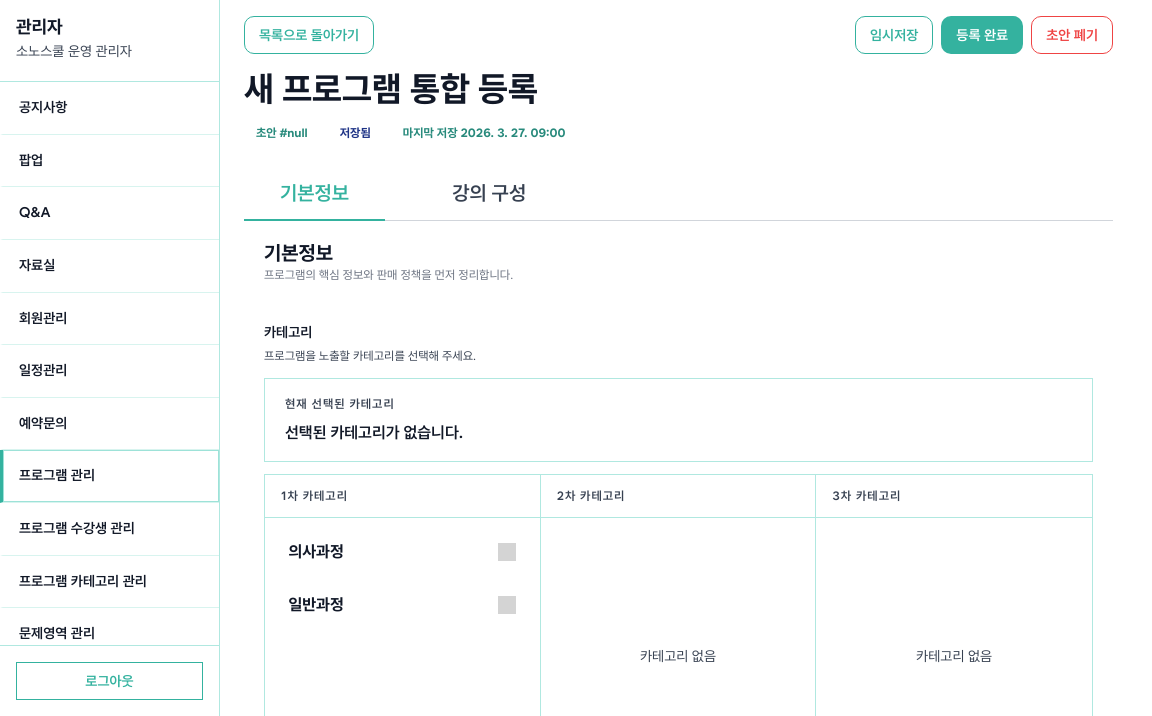
Test case: AdminConsolePage › opens duplicate programs in the integrated draft workspace with curriculum copied
Expected: the heading "새 프로그램 통합 등록" is shown, [244,68,538,109]
Click the button "강의 구성" at (489, 193), box [416,166,562,220]
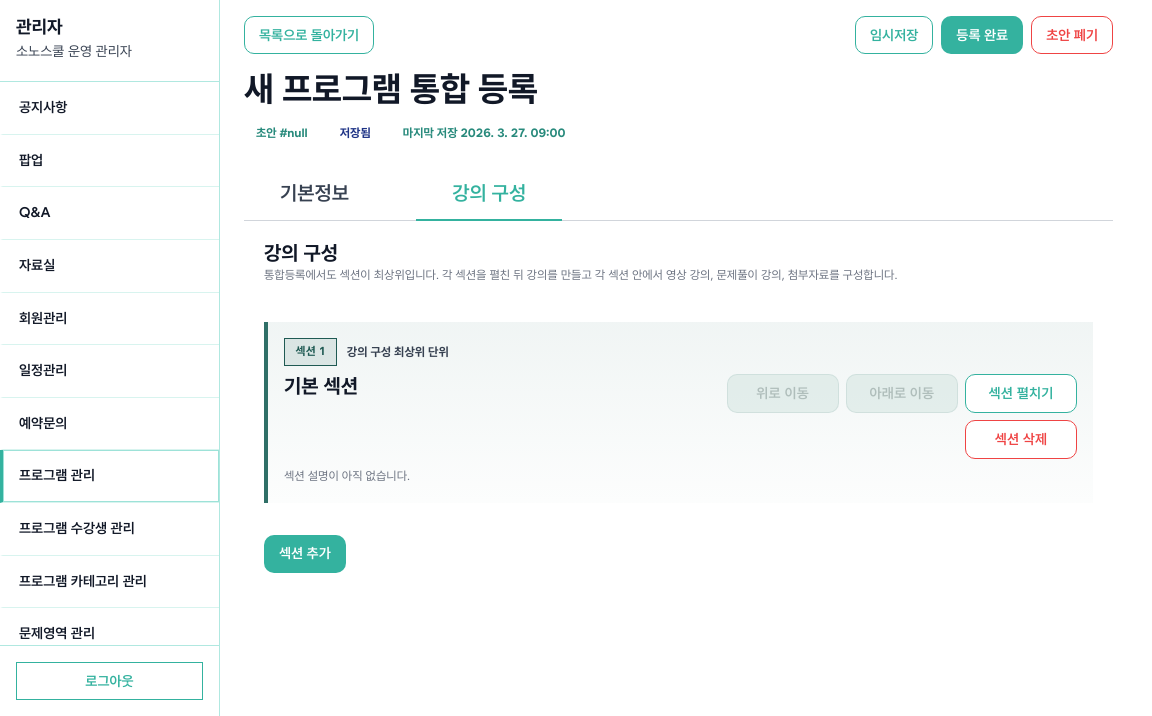
Expected: the heading "기본 섹션" is shown, [284,374,358,398]
Click the button "섹션 펼치기" at (1021, 393), box [965,374,1077,413]
(page scrolled)
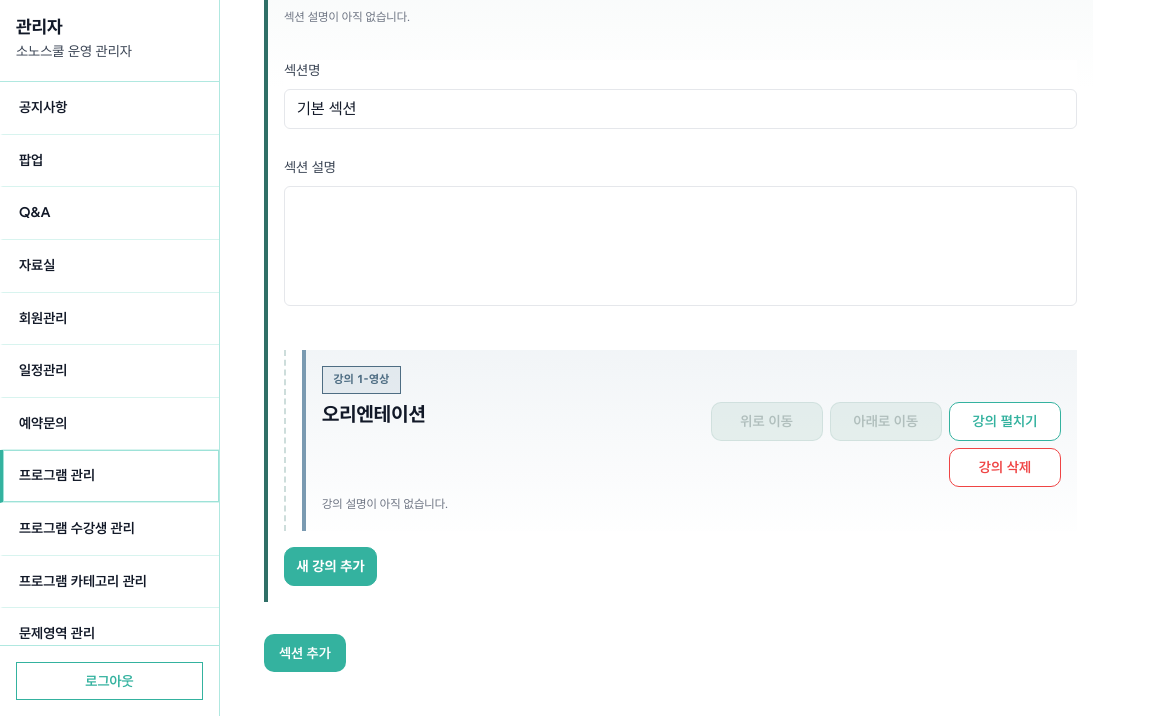
Expected: the heading "오리엔테이션" is shown, [322,402,426,427]
